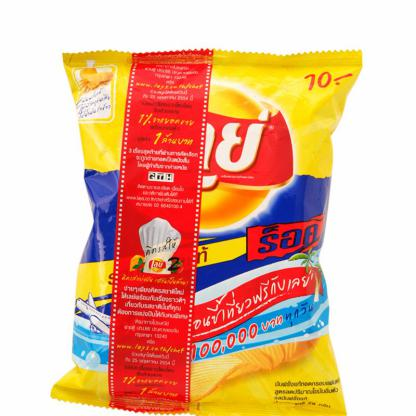potatochip: (51, 47, 366, 415)
